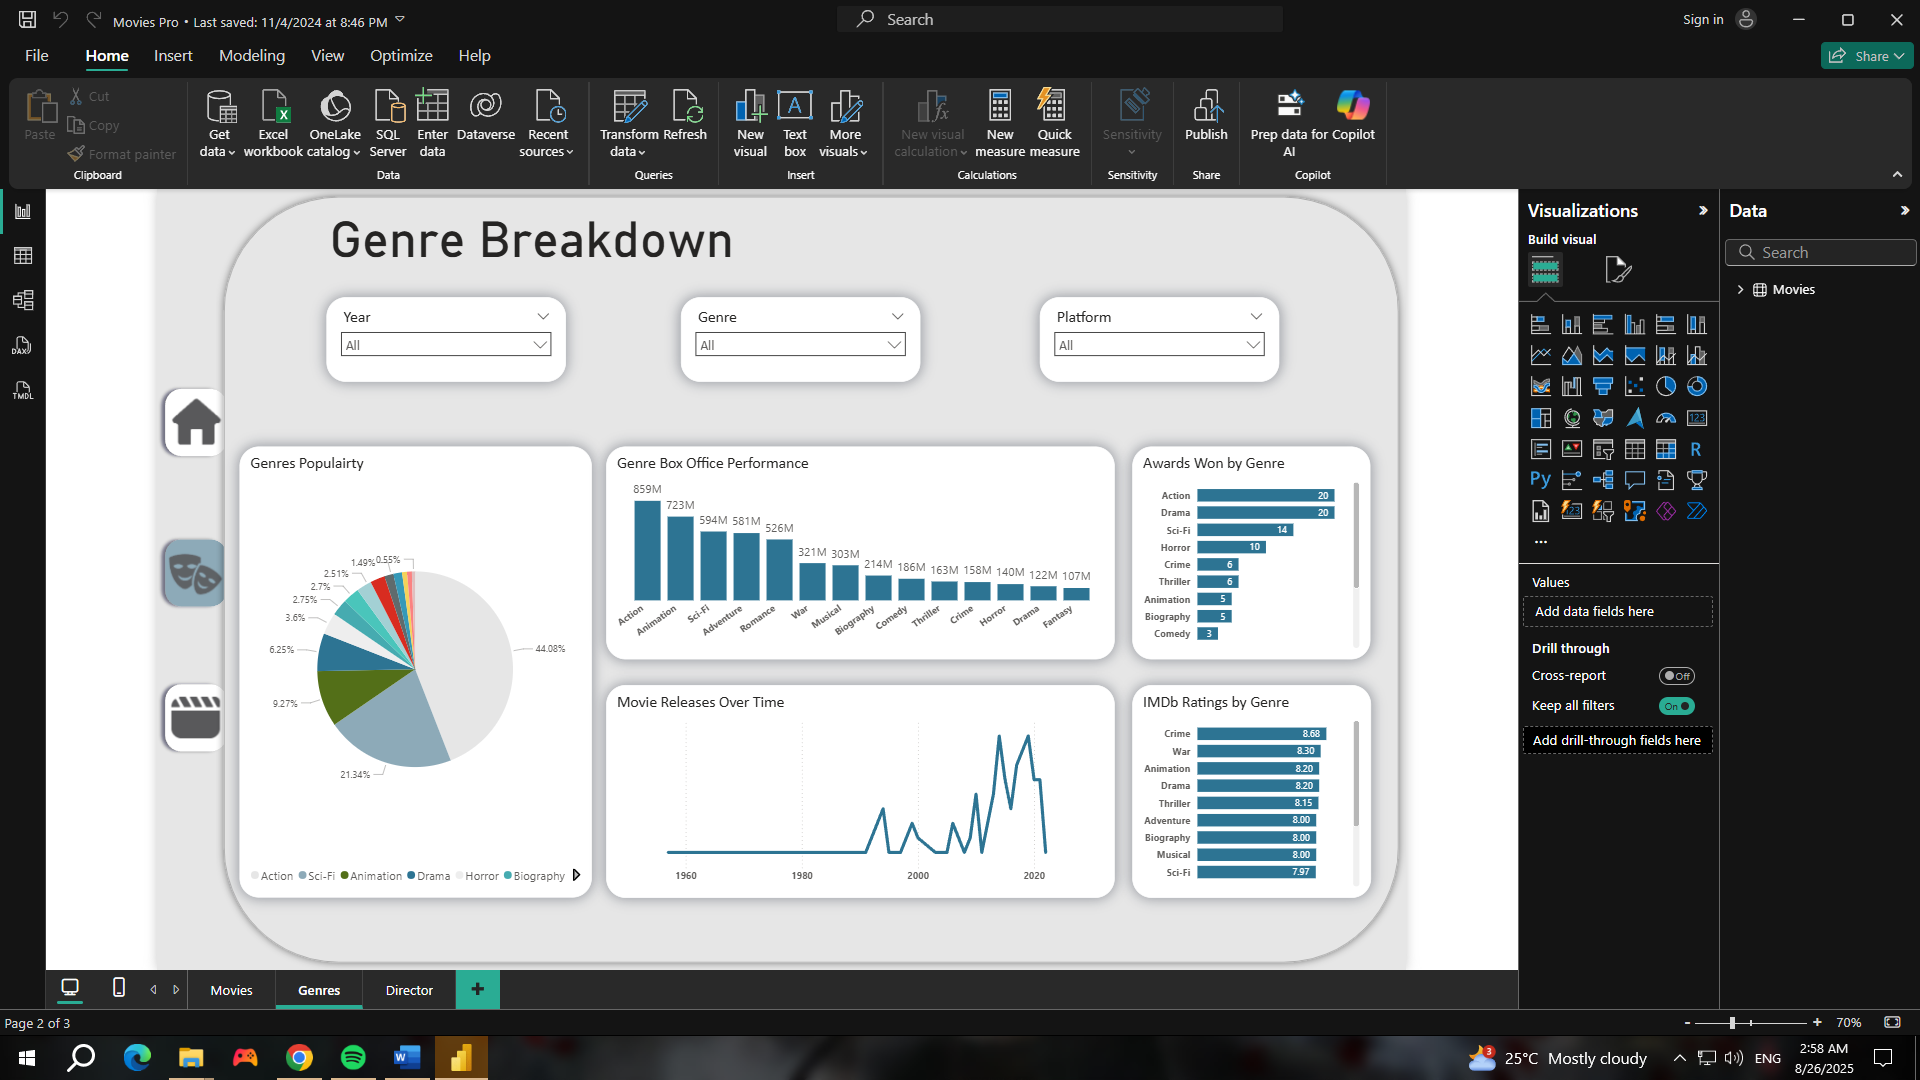

The page's visual inventory and layout, read from the dashboard file:
{"tool":"powerbi","page":{"name":"Genres","canvas":[1600,1000],"ordinal":1},"visuals":[{"type":"actionButton","box":[0.8,625.3,97.1,104.2],"z":1500},{"type":"actionButton","box":[0.8,439.7,97.1,104.2],"z":1750},{"type":"actionButton","box":[0.8,247,97.1,104.2],"z":1875},{"type":"shape","box":[75.7,0,1524.6,1000.7],"z":2000},{"type":"slicer","fields":{"Values":["Movies.Release Year"]},"box":[217,138.9,306.9,108.5],"z":3000},{"type":"slicer","fields":{"Values":["Movies.Genres"]},"box":[670.9,138.9,306.9,108.5],"z":4000},{"type":"slicer","fields":{"Values":["Movies.Streaming Platform"]},"box":[1130.6,138.9,306.9,108.5],"z":5000},{"type":"pieChart","title":"Genres Populairty","fields":{"Category":["Movies.Genres"],"Y":["Sum(Movies.Total Box Office)"]},"box":[105.6,329.8,451.1,578.2],"z":6000},{"type":"columnChart","title":"Genre Box Office Performance","fields":{"Y":["Avg(Movies.Total Box Office)"],"Category":["Movies.Genres"]},"box":[575.3,329.8,651,272.7],"z":7000},{"type":"clusteredBarChart","fields":{"Y":["Avg(Movies.IMDB Rating)"],"Category":["Movies.Genres"]},"box":[1249.5,635.3,305.5,272.7],"z":8000},{"type":"lineChart","title":"Movie Releases Over Time","fields":{"Category":["Movies.Release Year"],"Y":["CountNonNull(Movies.Movie Title)"]},"box":[575.3,635.3,651,272.7],"z":9000},{"type":"clusteredBarChart","fields":{"Category":["Movies.Genres"],"Y":["CountNonNull(Movies.Awards Won)"]},"box":[1249.5,329.8,305.5,272.6],"z":10000},{"type":"textbox","box":[217,21.4,582.4,112.8],"z":11000}]}

Visuals, with their boxes on the page's 1600x1000 design canvas (x1, y1, x2, y2). These are canvas units, not pixel positions in the 1920x1080 screenshot, which may show the page scaled, cropped or inside an application window:
actionButton: 1:625:98:730
actionButton: 1:440:98:544
actionButton: 1:247:98:351
shape: 76:0:1600:1001
slicer - Movies.Release Year: 217:139:524:247
slicer - Movies.Genres: 671:139:978:247
slicer - Movies.Streaming Platform: 1131:139:1438:247
"Genres Populairty" pieChart: 106:330:557:908
"Genre Box Office Performance" columnChart: 575:330:1226:602
clusteredBarChart - Avg(Movies.IMDB Rating) x Movies.Genres: 1250:635:1555:908
"Movie Releases Over Time" lineChart: 575:635:1226:908
clusteredBarChart - Movies.Genres x CountNonNull(Movies.Awards Won): 1250:330:1555:602
textbox: 217:21:799:134
